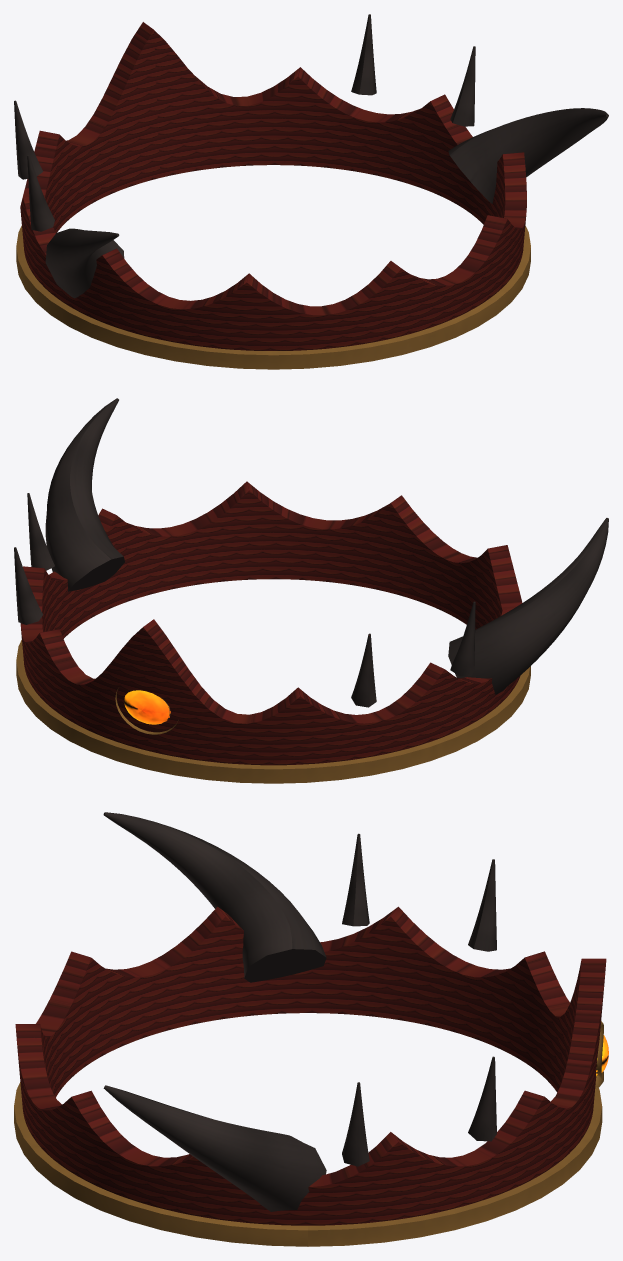
Rendered from DragonCrown.glb.
3 views of the same model, one above another, from view 1: azimuth 30°, elevation 25°; view 2: azimuth 150°, elevation 25°; view 3: azimuth 270°, elevation 25° (orthographic). The views are drawn at different scales.
Parts seen in each view (by area): view 1: DragonCrown; view 2: DragonCrown; view 3: DragonCrown.
Boxes of the visible parts, box(x1,y1,x2,y2) form: DragonCrown: box(14, 14, 608, 369); DragonCrown: box(14, 398, 608, 783); DragonCrown: box(14, 812, 608, 1246).
Size of the model in its own units: 1.53 by 0.4436 by 1.31.
1 material, 1 textured.
